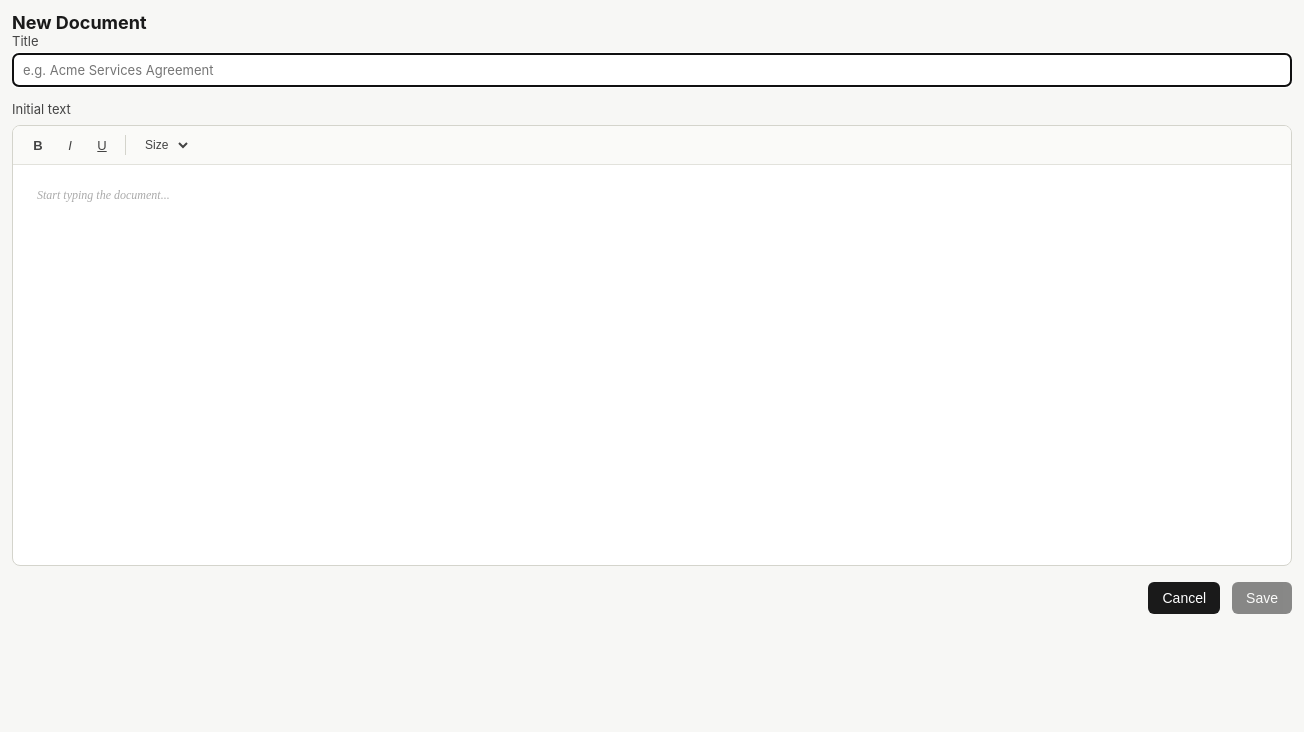
Test: NewDocumentForm › enables the Save button when a title is typed
Type "My Contract" into the field with placeholder "e.g. Acme Services Agreement".
click(652, 70); type("My Contract")  # box 12,53 -> 1292,87
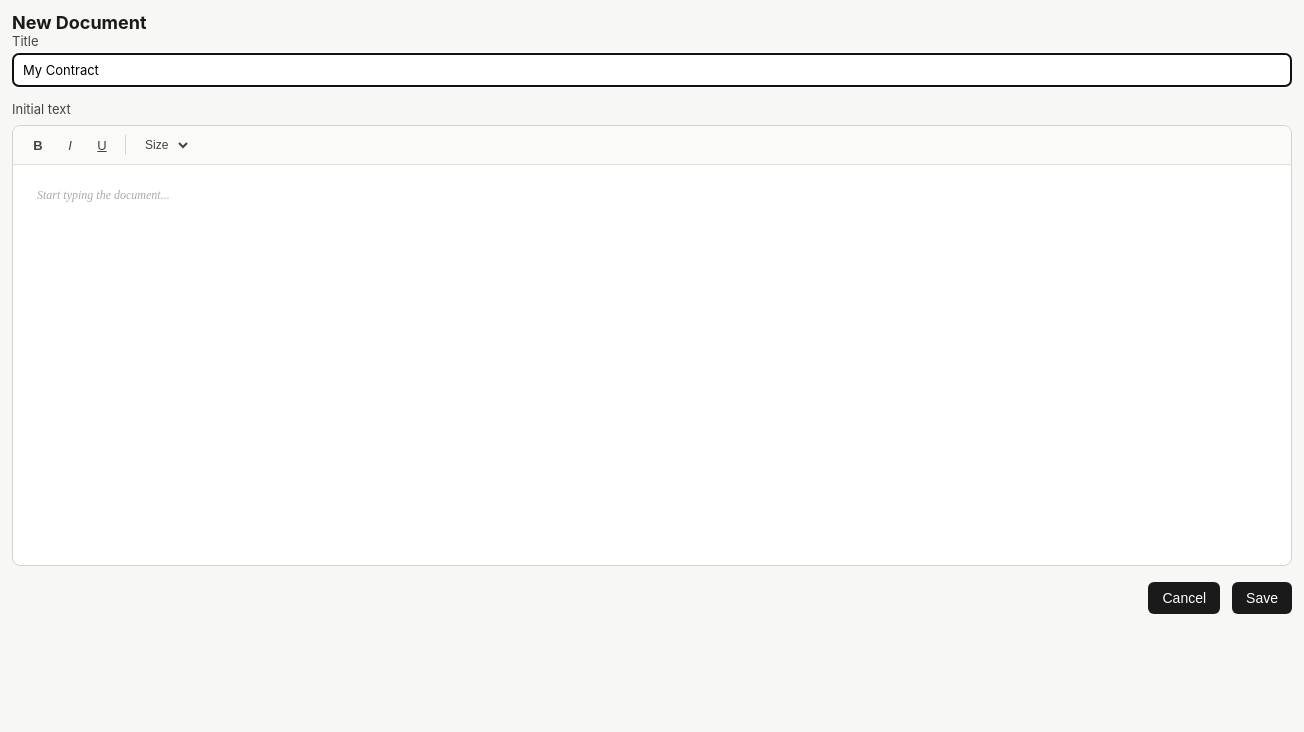
Result: the button "Save" is enabled at 1232,582 -> 1292,614
